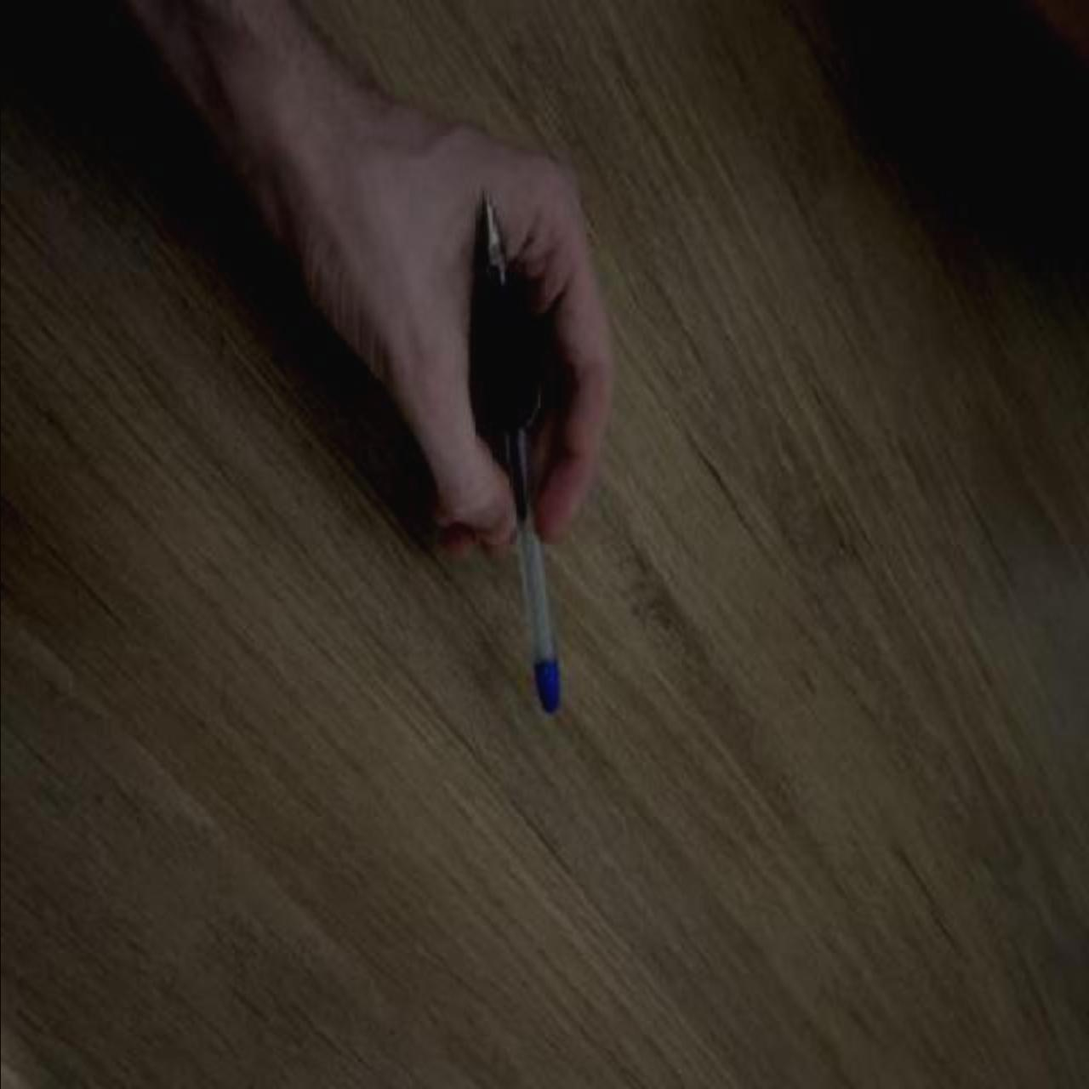pen: (476, 192, 563, 711)
